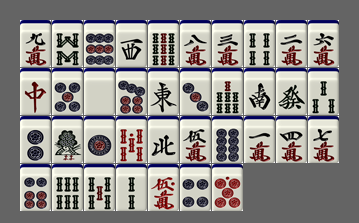0m: (148, 164, 179, 211)
0p: (212, 164, 243, 211)
0s: (116, 116, 147, 163)
1m: (244, 116, 275, 163)
1p: (84, 116, 115, 163)
1s: (52, 116, 83, 163)
1z: (148, 68, 179, 115)
2m: (276, 20, 307, 67)
2p: (20, 116, 51, 163)
2s: (116, 164, 147, 211)
2z: (244, 68, 275, 115)
3m: (212, 20, 243, 67)
3p: (180, 68, 211, 115)
3s: (308, 68, 339, 115)
3z: (116, 20, 147, 67)
4m: (276, 116, 307, 163)
4p: (180, 164, 211, 211)
4s: (244, 20, 275, 67)
4z: (148, 116, 179, 163)
5m: (180, 116, 211, 163)
5p: (52, 68, 83, 115)
5s: (84, 164, 115, 211)
5z: (84, 68, 115, 115)
6m: (308, 20, 339, 67)
6p: (20, 164, 51, 211)
6s: (52, 164, 83, 211)
6z: (276, 68, 307, 115)
7m: (308, 116, 339, 163)
7p: (116, 68, 147, 115)
7s: (212, 68, 243, 115)
7z: (20, 68, 51, 115)
8m: (180, 20, 211, 67)
8p: (212, 116, 243, 163)
8s: (52, 20, 83, 67)
9m: (20, 20, 51, 67)
9p: (84, 20, 115, 67)
9s: (148, 20, 179, 67)
